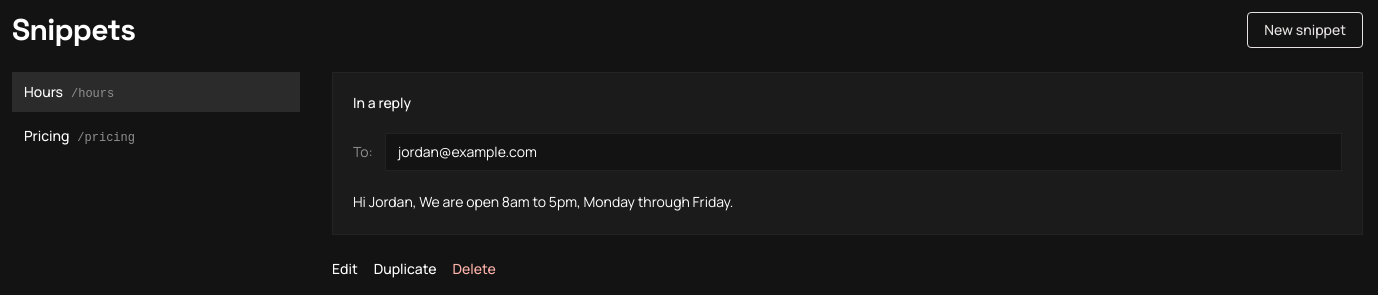
SnippetLibrary › shows the selected snippet inserted into a sample reply
This screenshot has width=1378, height=295.
Check: the element "In a reply" shows "jordan@example.com", box [398,142,537,161]
Check: the element "In a reply" shows "Hi Jordan,", box [353,192,416,211]
Click the button "Pricing /pricing" at (47, 136), box [12,116,300,156]
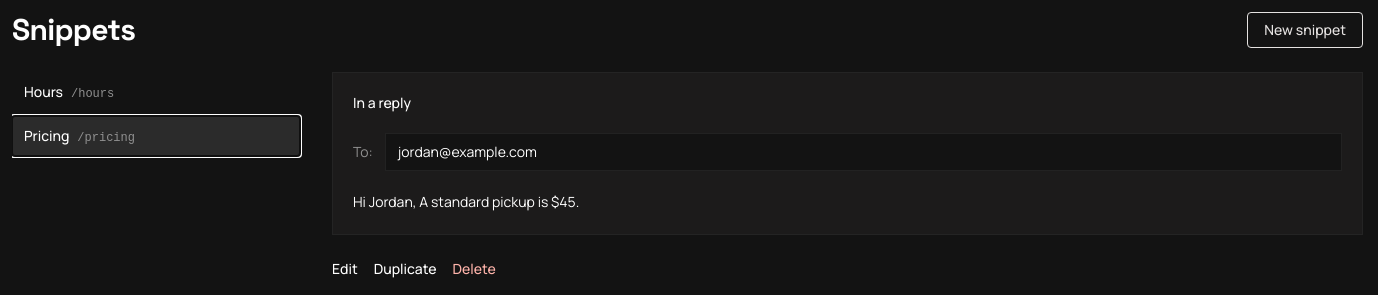
Check: the element "In a reply" shows "A standard pickup is $45.", box [419,192,579,211]
Check: the element "In a reply" no longer shows "We are open 8am to 5pm, Monday through Friday.", box [332,72,1363,235]
